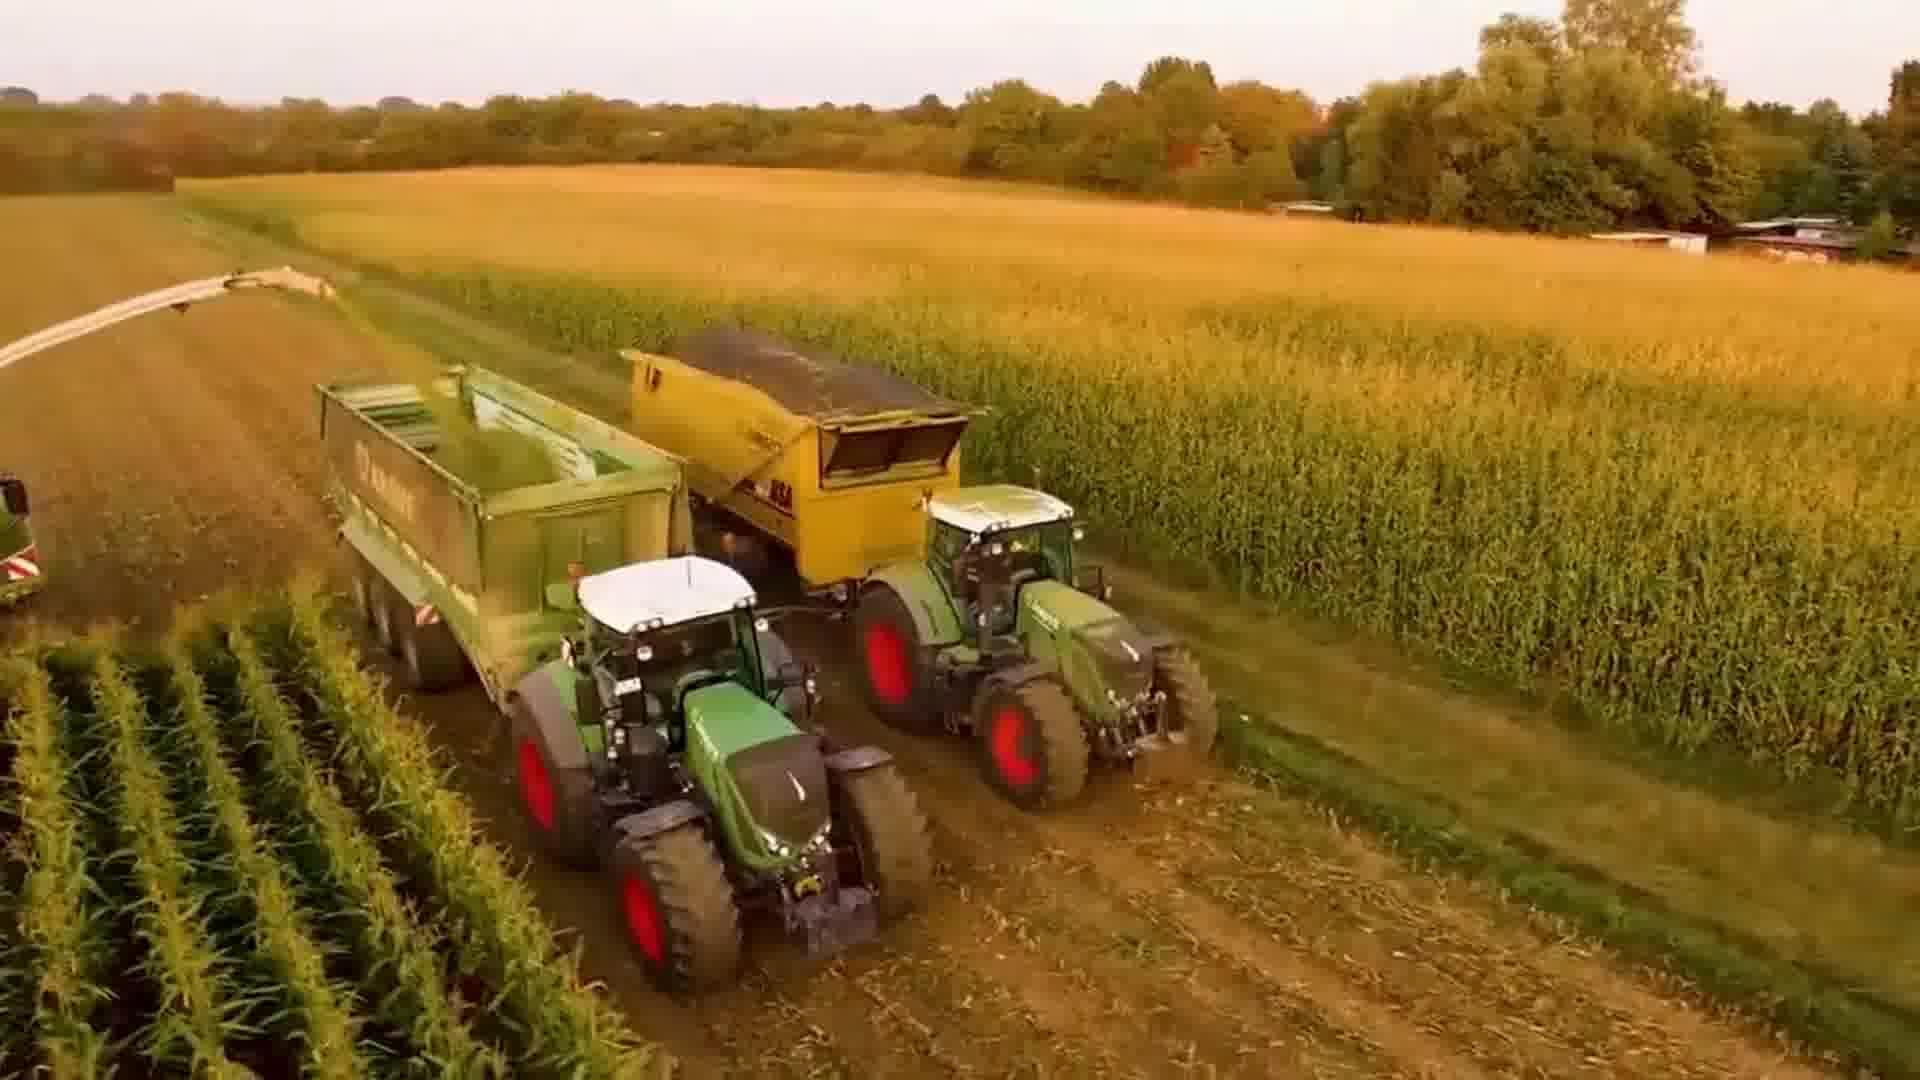combine harvester: (0, 252, 347, 630)
tractor: (496, 543, 943, 1007), (841, 473, 1228, 814)
trailer: (307, 338, 696, 715), (612, 311, 981, 620)
